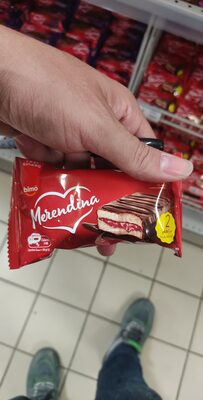Merendina: (10, 20, 193, 380)
